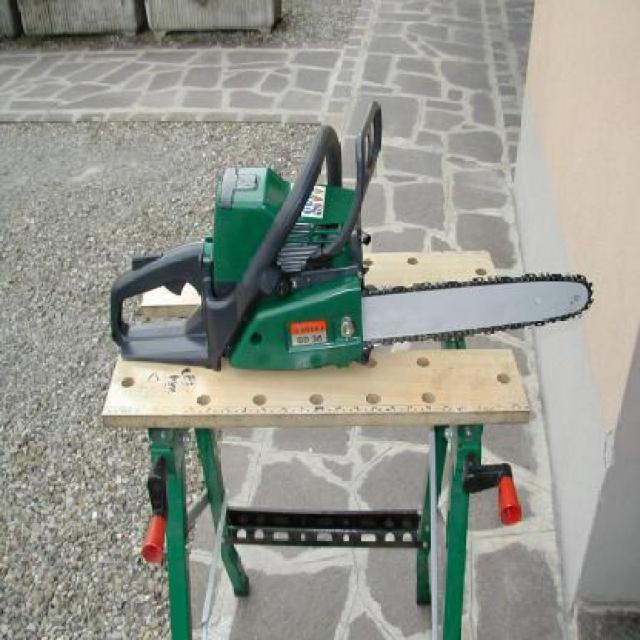Chainsaw: (110, 97, 596, 369)
